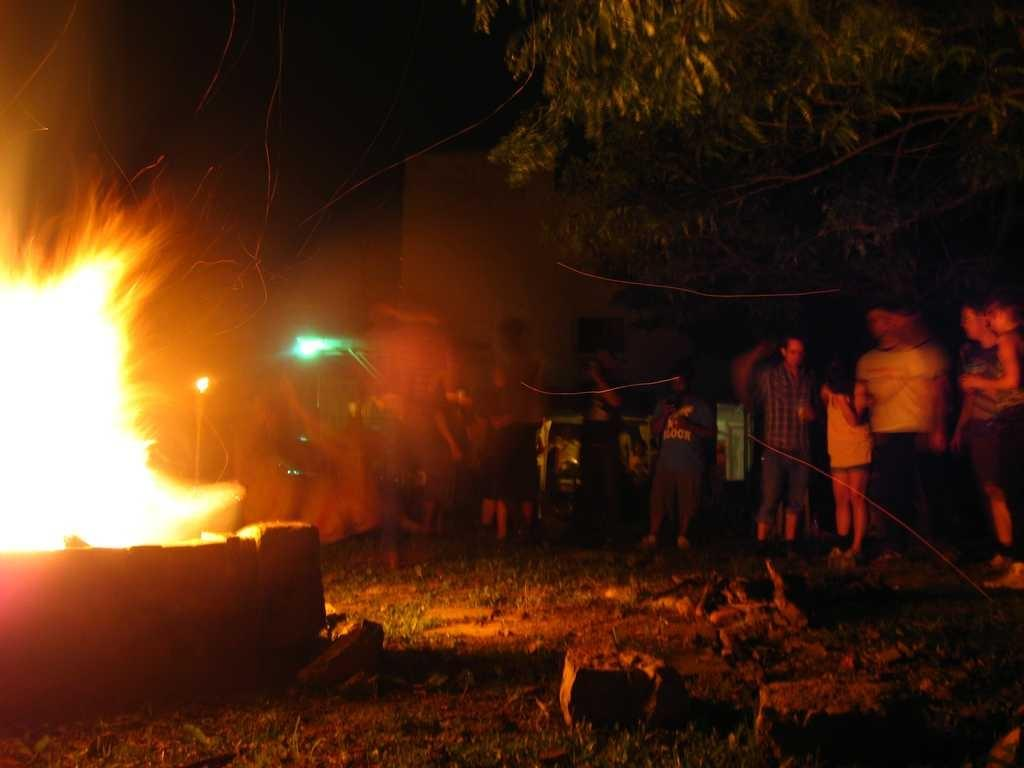fire: (0, 302, 130, 550)
